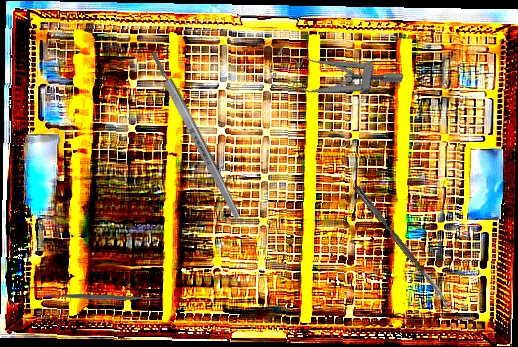Scalpel Handle: (148, 49, 243, 221)
Spatula Surgical: (38, 288, 162, 307)
Speculum: (267, 31, 405, 126)
Surgical Spoon: (352, 184, 455, 313)
